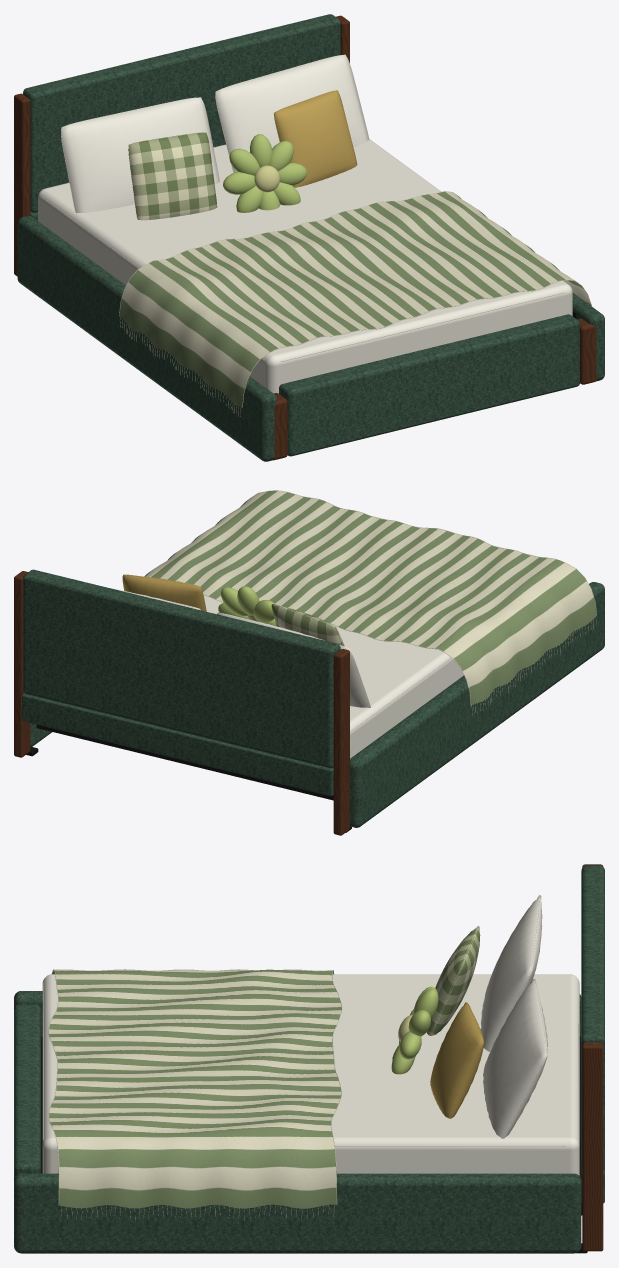
The model's file is chenille-queen-bed.glb.
The picture shows the model from 3 angles, top to bottom: view 1: azimuth 30°, elevation 25°; view 2: azimuth 150°, elevation 25°; view 3: azimuth 270°, elevation 25°; orthographic projection. The views are drawn at different scales.
Visible parts, largest first — view 1: Optional draped sage striped throw, Optional 60 x 80 x 10in queen mattress, Footboard | 57.5in upholstered center, Headboard | 61in upholstered main panel, Left upholstered side rail, Left ivory sleep pillow, Right ivory sleep pillow, Gingham scatter cushion, Ochre scatter cushion, Left headboard walnut edge | 64.5in span, Right upholstered side rail, Right foot walnut wrap | 11in high (+4 smaller); view 2: Optional draped sage striped throw, Headboard | 61in upholstered main panel, Left upholstered side rail, Headboard | 5in lower upholstered panel, Optional 60 x 80 x 10in queen mattress, Left headboard walnut edge | 64.5in span, Right headboard walnut edge | 64.5in span, Ochre scatter cushion, Gingham scatter cushion, Rear lower concealed cross brace, Left ivory sleep pillow, Throw woven hems (+1 smaller); view 3: Optional draped sage striped throw, Right upholstered side rail, Optional 60 x 80 x 10in queen mattress, Right ivory sleep pillow, Headboard | 61in upholstered main panel, Right headboard walnut edge | 64.5in span, Footboard | 57.5in upholstered center, Left ivory sleep pillow, Ochre scatter cushion, Gingham scatter cushion, Mattress piped edge 16.72, Throw woven hems (+2 smaller).
Boxes of the visible parts, box(x1,y1,x2,y2) form: Optional draped sage striped throw: box(119, 191, 591, 407); Optional 60 x 80 x 10in queen mattress: box(38, 139, 572, 393); Footboard | 57.5in upholstered center: box(279, 314, 579, 456); Headboard | 61in upholstered main panel: box(23, 14, 340, 212); Left upholstered side rail: box(17, 216, 276, 461); Left ivory sleep pillow: box(61, 97, 219, 212); Right ivory sleep pillow: box(215, 55, 369, 172); Gingham scatter cushion: box(128, 132, 217, 220); Ochre scatter cushion: box(274, 90, 357, 187); Left headboard walnut edge | 64.5in span: box(14, 93, 30, 276); Right upholstered side rail: box(572, 293, 604, 381); Right foot walnut wrap | 11in high: box(577, 318, 596, 384); Optional draped sage striped throw: box(144, 490, 596, 705); Headboard | 61in upholstered main panel: box(23, 569, 340, 768); Left upholstered side rail: box(350, 582, 604, 827); Headboard | 5in lower upholstered panel: box(22, 693, 333, 796); Optional 60 x 80 x 10in queen mattress: box(203, 516, 537, 758); Left headboard walnut edge | 64.5in span: box(333, 649, 349, 835); Right headboard walnut edge | 64.5in span: box(14, 571, 30, 757); Ochre scatter cushion: box(122, 574, 206, 611); Gingham scatter cushion: box(271, 604, 344, 646); Rear lower concealed cross brace: box(36, 724, 333, 800); Left ivory sleep pillow: box(217, 612, 370, 707); Throw woven hems: box(203, 490, 596, 705); Optional draped sage striped throw: box(49, 969, 341, 1208); Right upholstered side rail: box(14, 1173, 581, 1253); Optional 60 x 80 x 10in queen mattress: box(42, 974, 579, 1175); Right ivory sleep pillow: box(483, 979, 547, 1138); Headboard | 61in upholstered main panel: box(581, 865, 604, 1169); Right headboard walnut edge | 64.5in span: box(582, 1042, 603, 1251); Footboard | 57.5in upholstered center: box(14, 1004, 40, 1177); Left ivory sleep pillow: box(481, 895, 542, 1051); Ochre scatter cushion: box(430, 1002, 484, 1118); Gingham scatter cushion: box(426, 926, 480, 1035); Mattress piped edge 16.72: box(43, 982, 579, 1146); Throw woven hems: box(48, 969, 342, 1205).
Size of the model in its own units: 1.77 by 0.889 by 2.24.
Materials: 15 (5 with a texture image).
